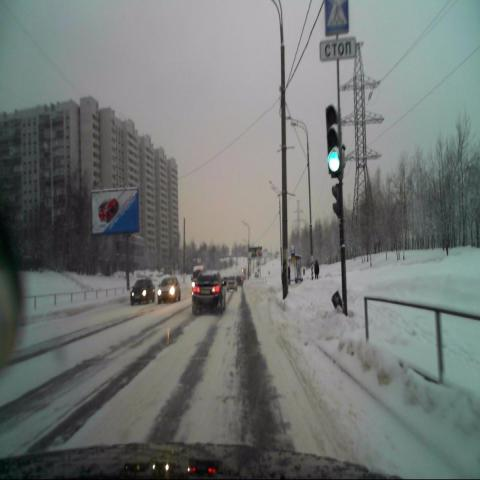5_19_1: (325, 3, 349, 35)
6_16: (318, 38, 358, 60)
